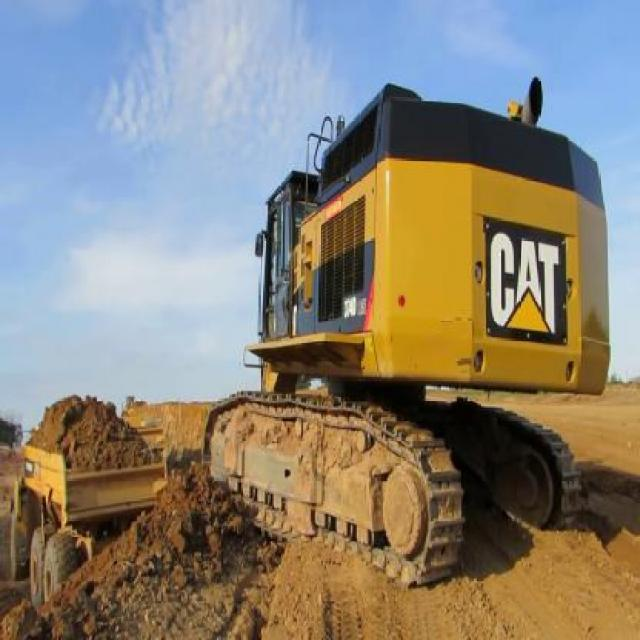Dump Truck: (5, 388, 168, 607)
Excavator: (197, 70, 612, 595)
